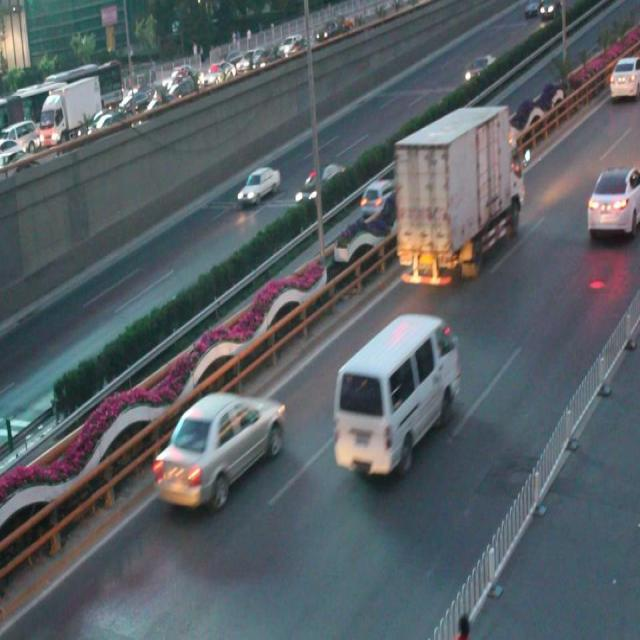bus: (392, 103, 526, 286)
car: (155, 390, 286, 506), (586, 162, 640, 236), (295, 159, 343, 207), (235, 165, 280, 206), (358, 174, 399, 212)
truck: (333, 310, 458, 476)
